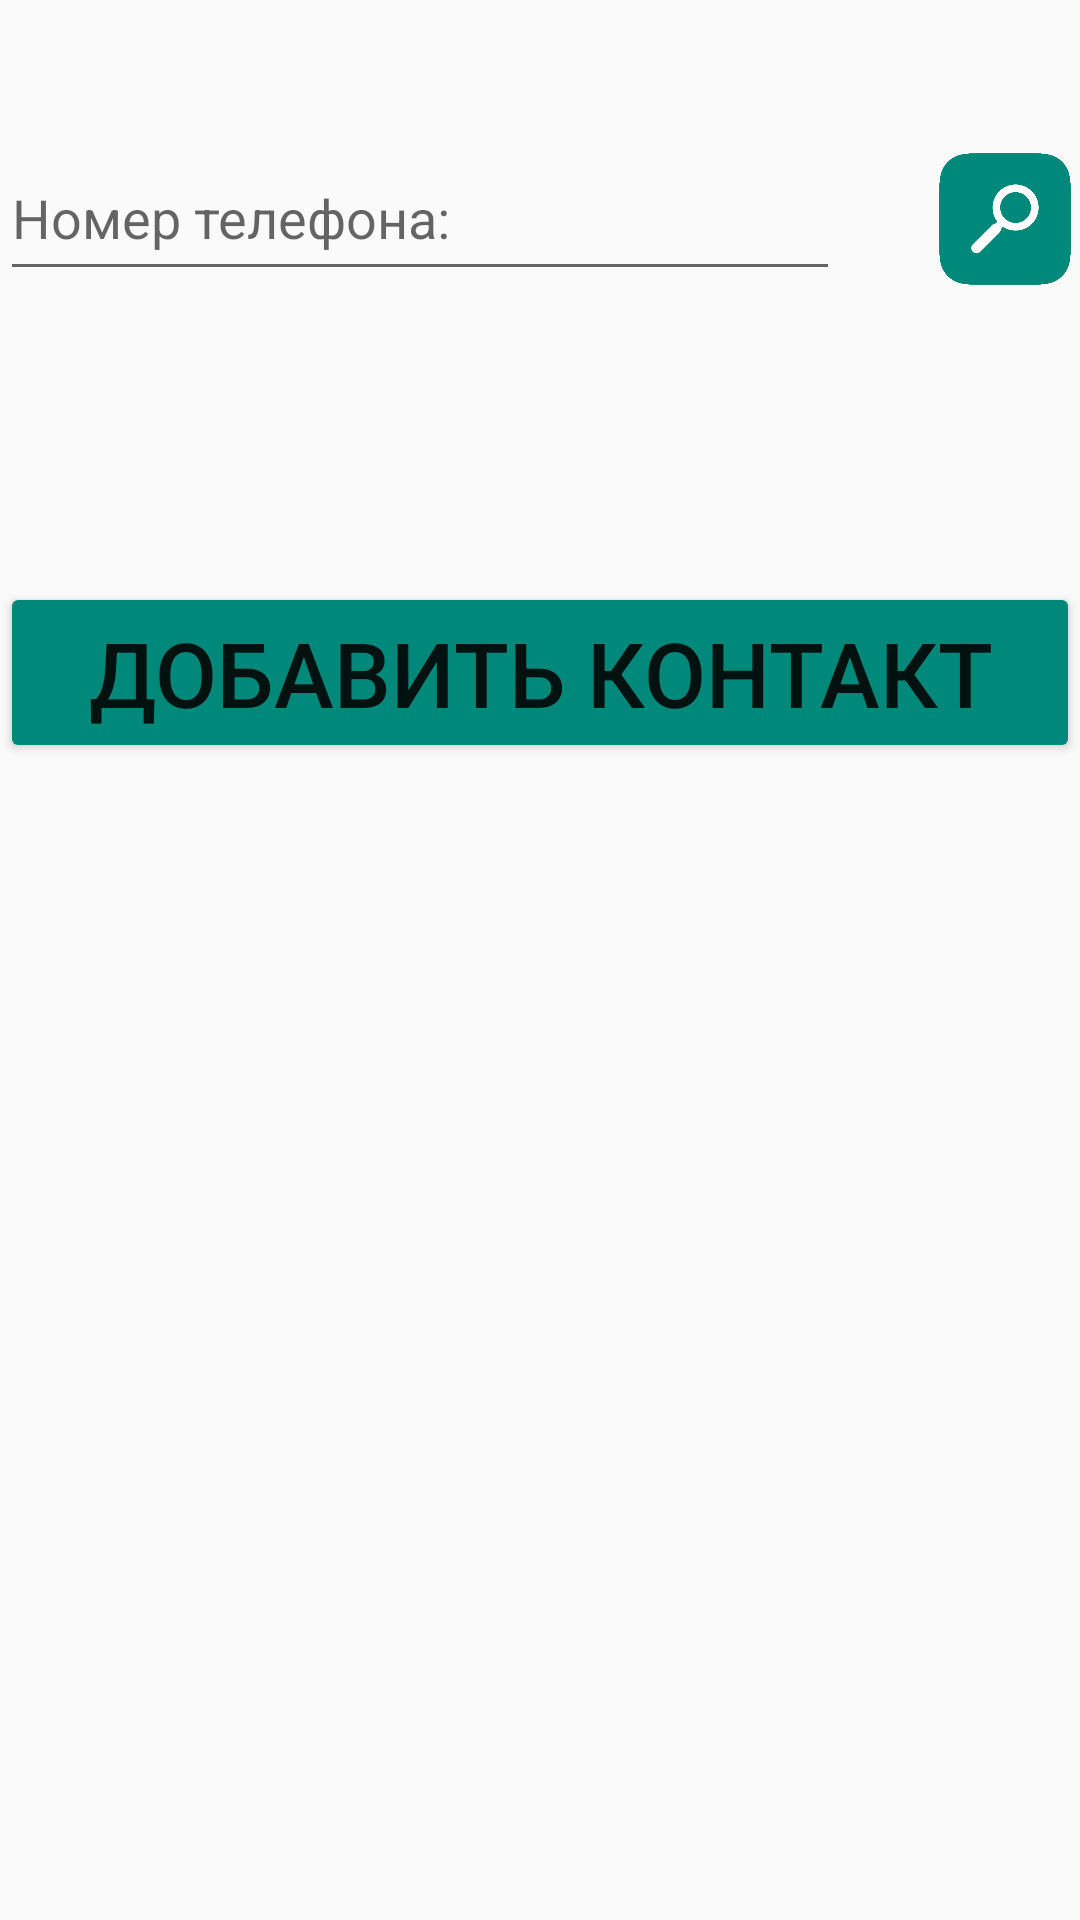

Icon bounding boxes for this 1080×1920 phone screenshot, format (x1, y1, x2, y2):
search: (939, 153, 1071, 285)
